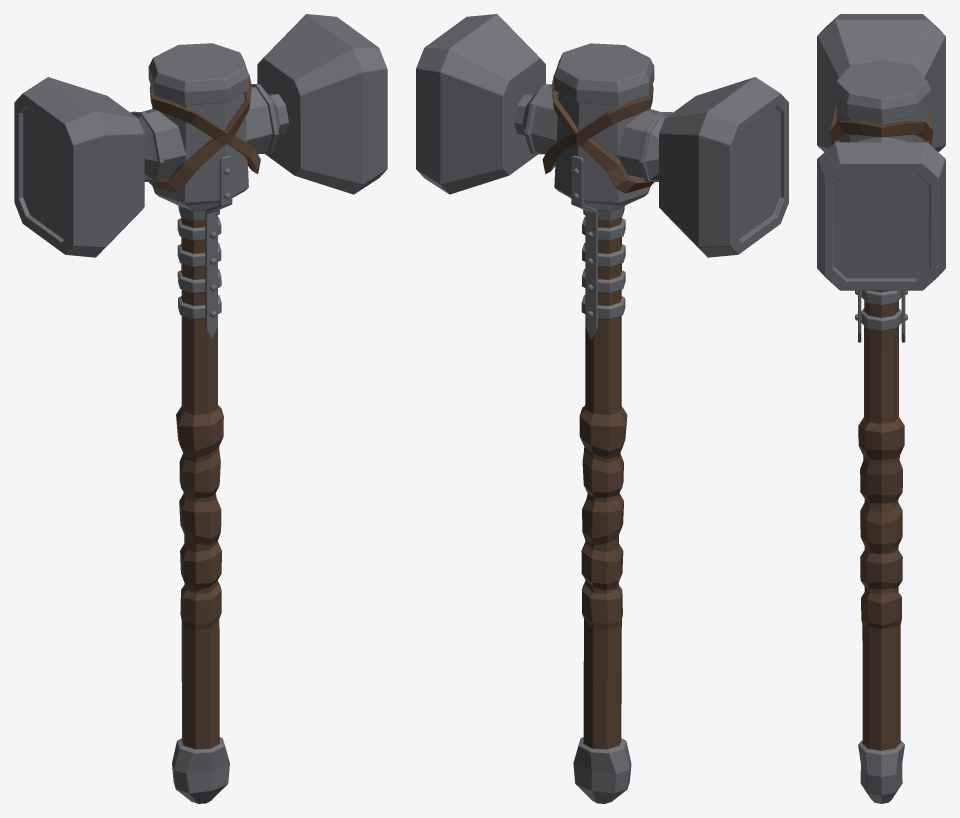
Rendered from mace_3.glb.
The picture shows the model from 3 angles, left to right: view 1: azimuth 30°, elevation 25°; view 2: azimuth 150°, elevation 25°; view 3: azimuth 270°, elevation 25°; orthographic projection. The views are drawn at different scales.
Parts seen in each view (by area): view 1: mace_3; view 2: mace_3; view 3: mace_3.
Boxes of the visible parts, x1=… form: mace_3: x1=14, y1=14, x2=387, y2=803; mace_3: x1=416, y1=14, x2=788, y2=803; mace_3: x1=817, y1=14, x2=945, y2=803.
Size of the model in its own units: 0.446 by 1 by 0.1621.
